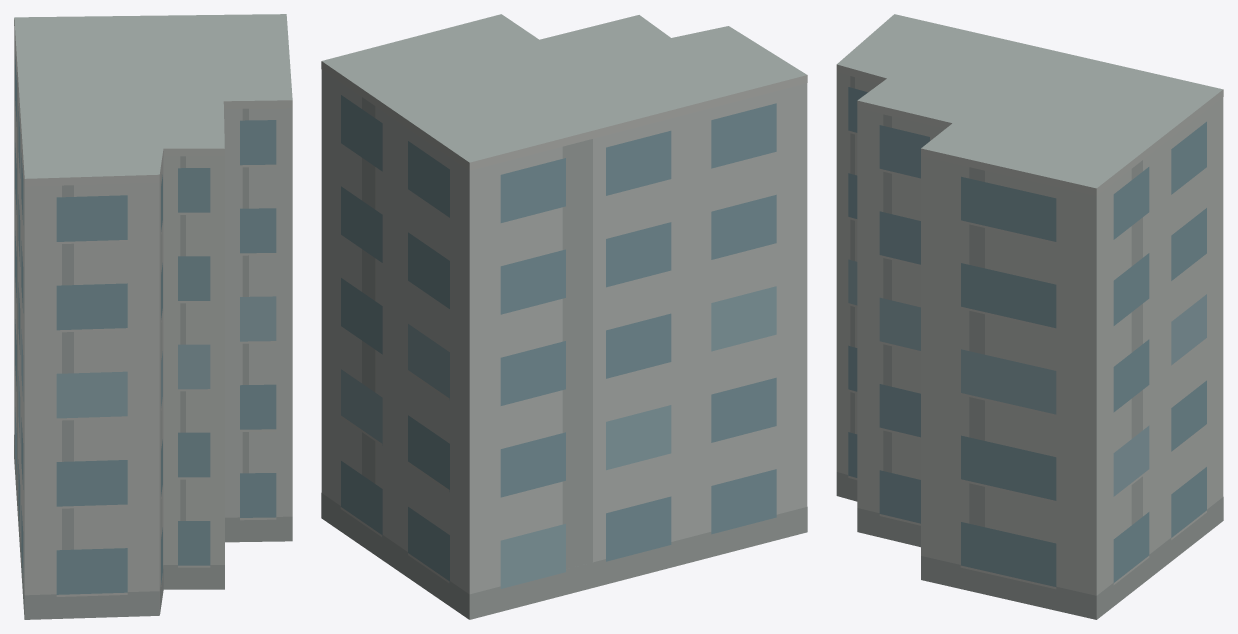
File: survey-upis-32727034.glb
3 renders of one model, left to right at view 1: azimuth 30°, elevation 25°; view 2: azimuth 150°, elevation 25°; view 3: azimuth 270°, elevation 25°, orthographic. The views are drawn at different scales.
Visible parts, largest first — view 1: survey-upis-32727034.tmp; view 2: survey-upis-32727034.tmp; view 3: survey-upis-32727034.tmp.
Part boxes in pixels (bbox=[...]): survey-upis-32727034.tmp: bbox=[14, 14, 292, 619]; survey-upis-32727034.tmp: bbox=[321, 14, 807, 619]; survey-upis-32727034.tmp: bbox=[836, 14, 1223, 619].
Bounding box in the file's own units: 11.89 × 13.7 × 11.14.
